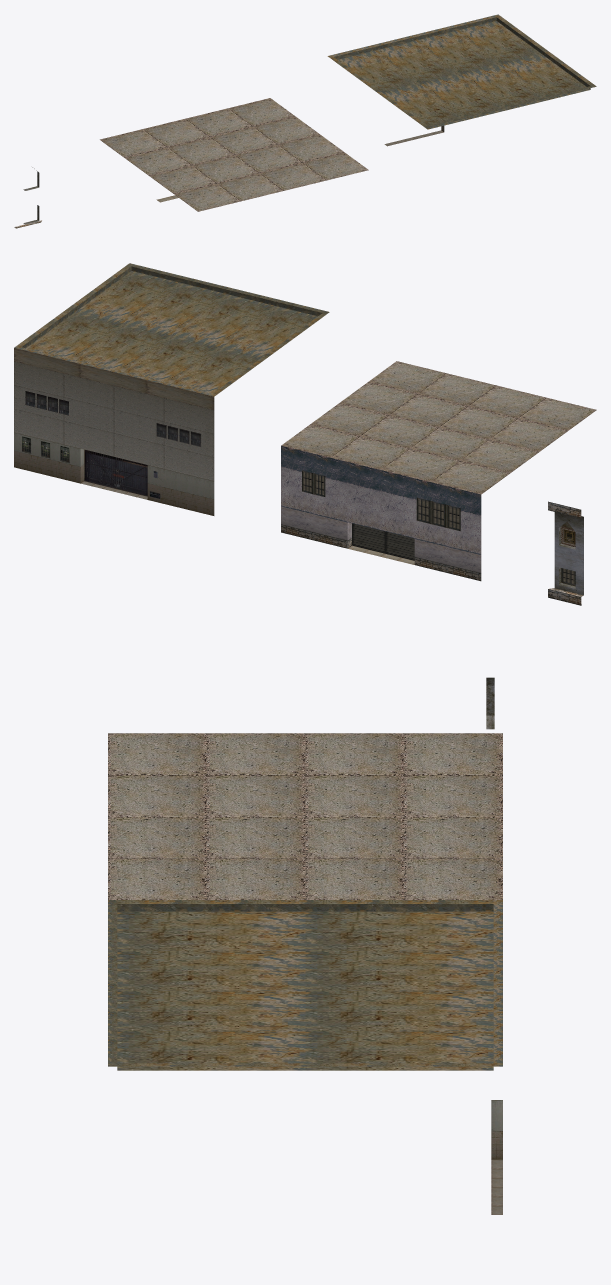
File: M11Z1_Building07_A.glb
3 renders of one model, top to bottom at view 1: azimuth 30°, elevation 25°; view 2: azimuth 150°, elevation 25°; view 3: azimuth 270°, elevation 25°, orthographic. The views are drawn at different scales.
Parts seen in each view (by area): view 1: M11Z1_BUILDING07_A; view 2: M11Z1_BUILDING07_A; view 3: M11Z1_BUILDING07_A.
Boxes of the visible parts, x1,y1,x2,y2 form: M11Z1_BUILDING07_A: (14,14,596,228); M11Z1_BUILDING07_A: (14,263,596,605); M11Z1_BUILDING07_A: (108,677,502,1214).
Bounding box in the file's own units: 68 × 13.69 × 24.
Materials: 14 (14 with a texture image).
